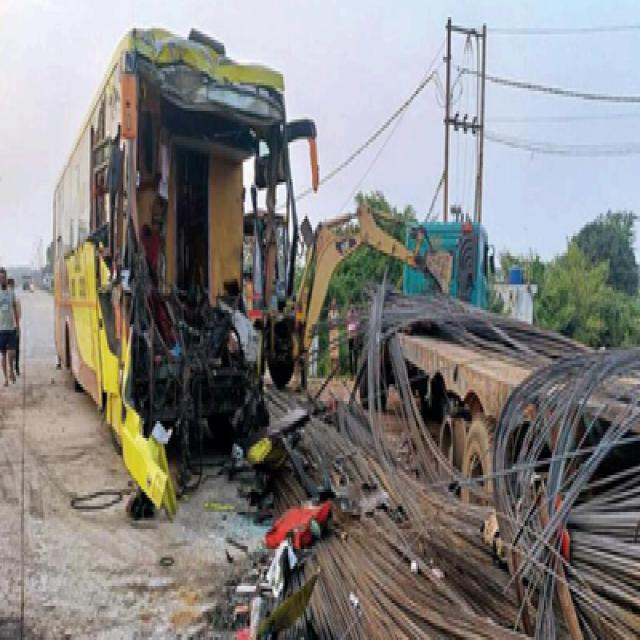accident: (55, 29, 316, 506)
